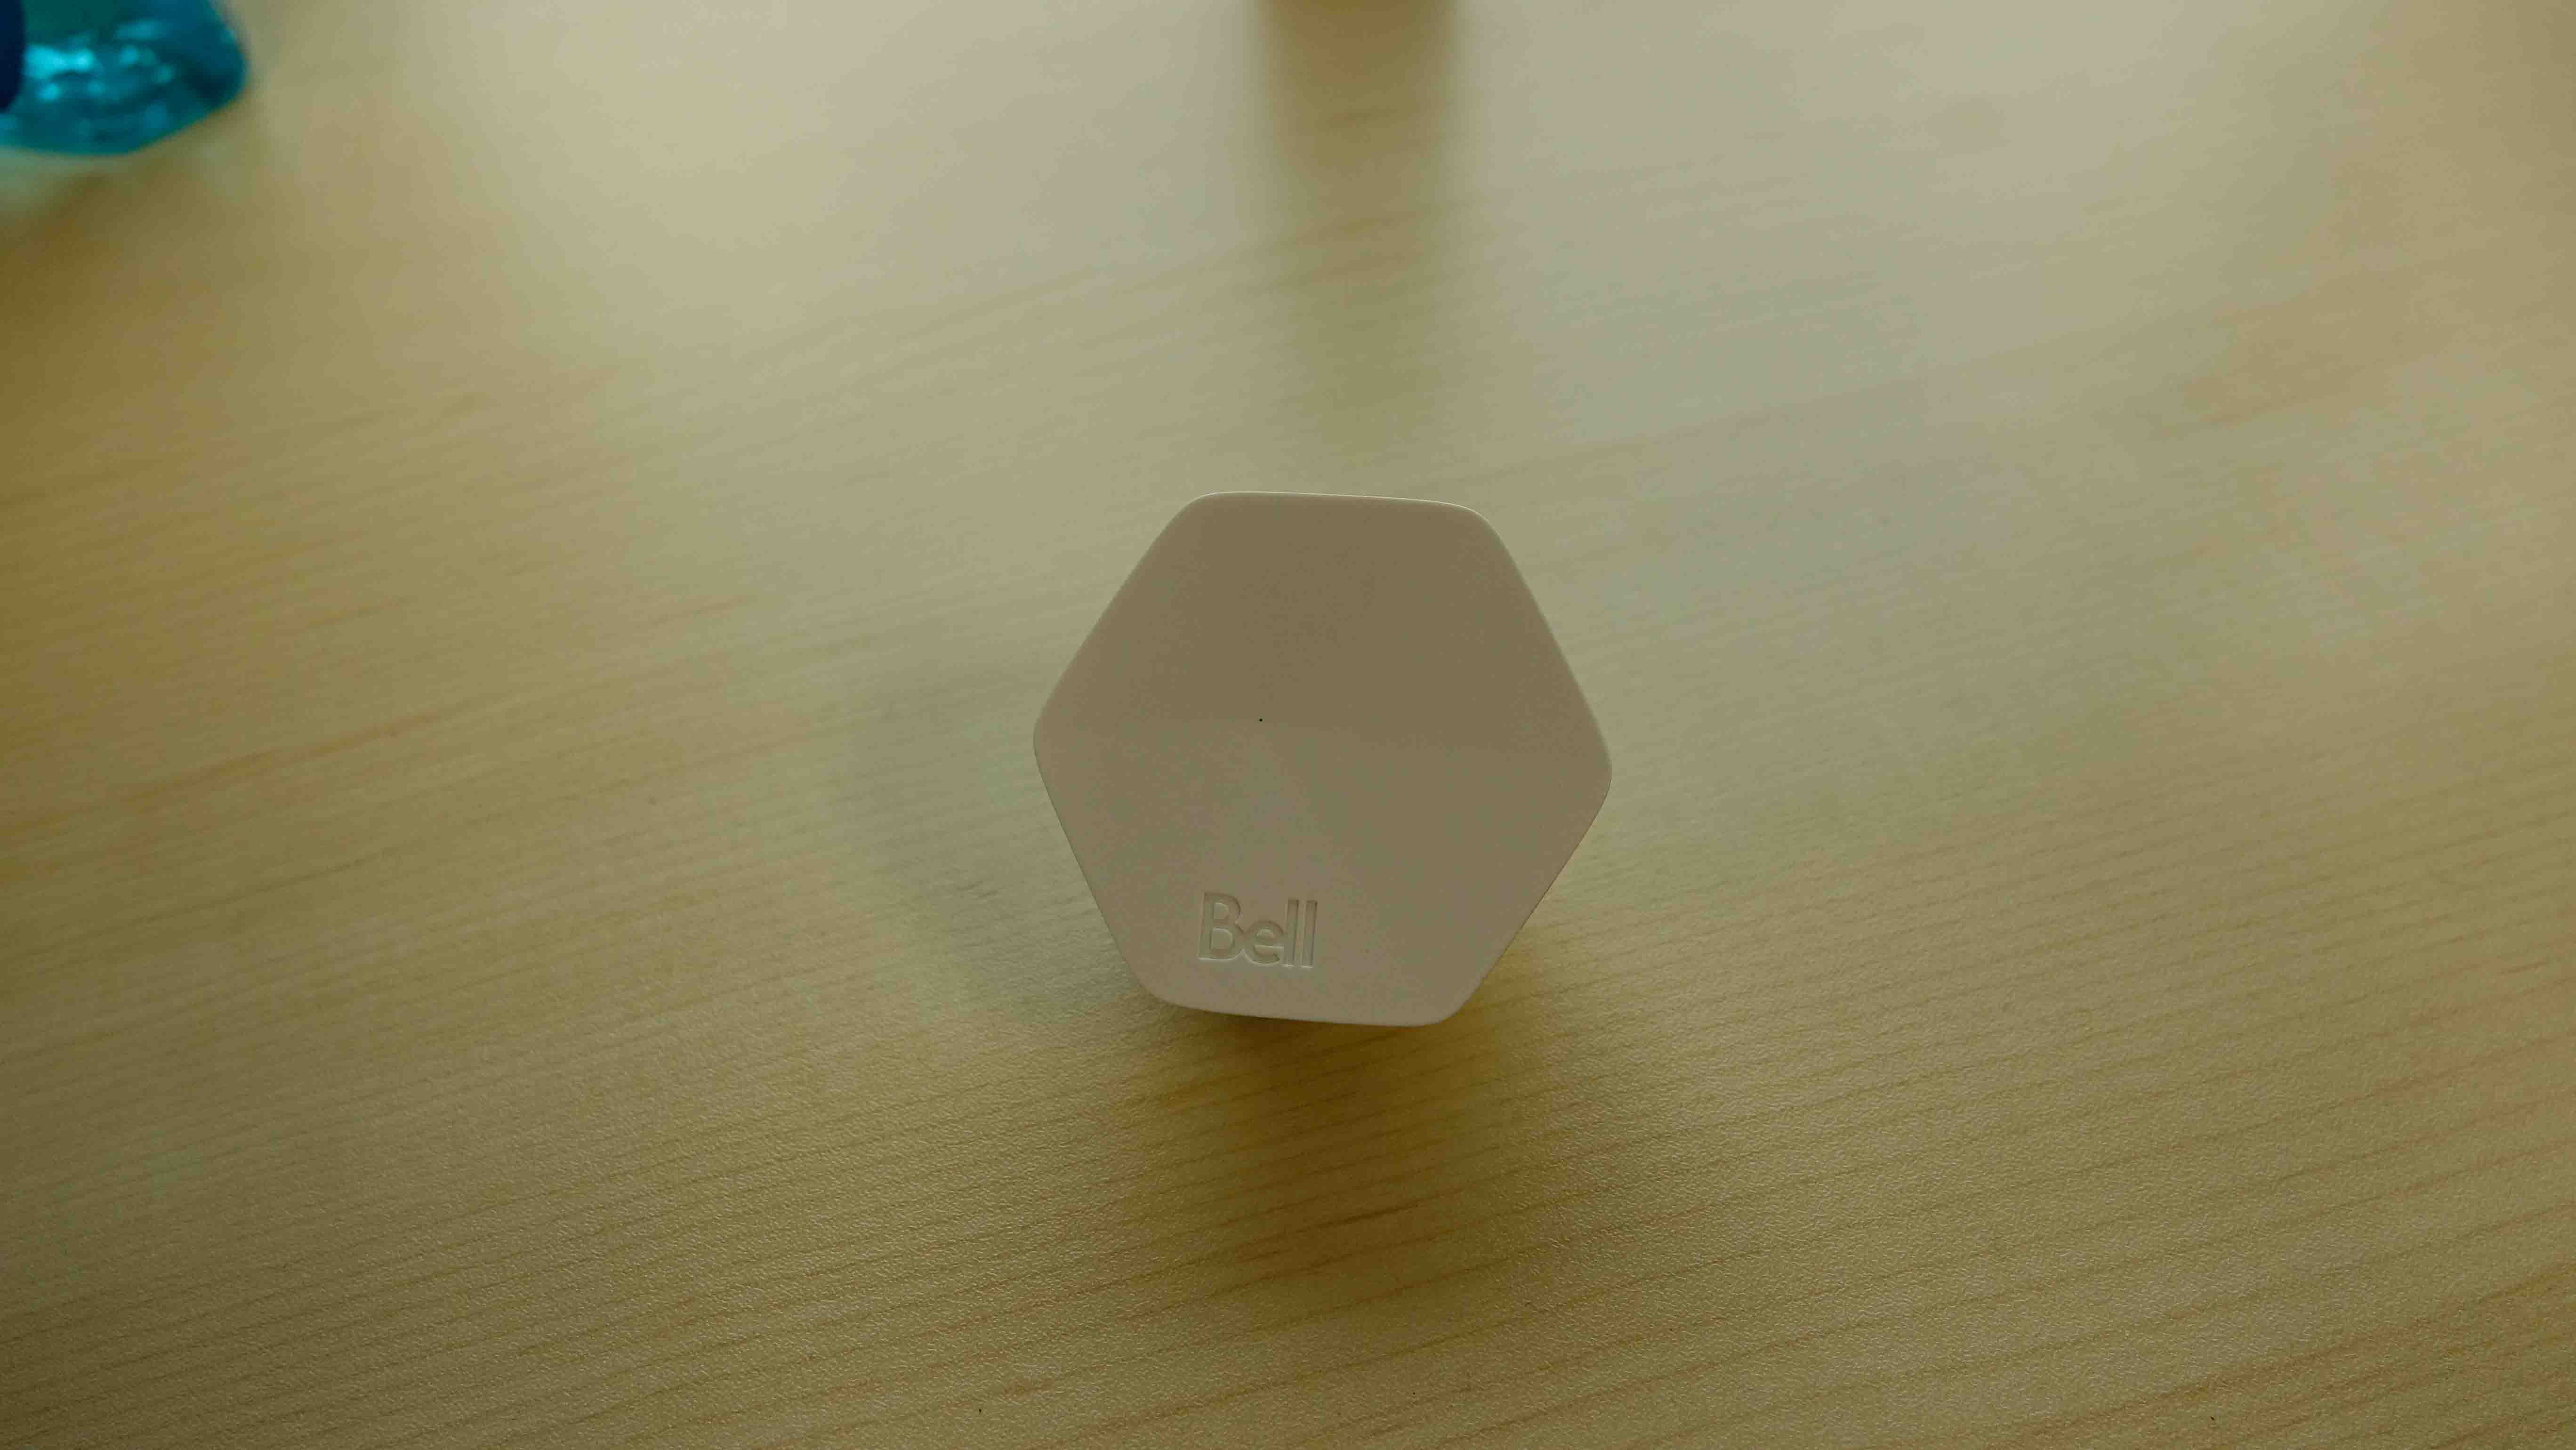pod: (1024, 477, 1626, 1049)
